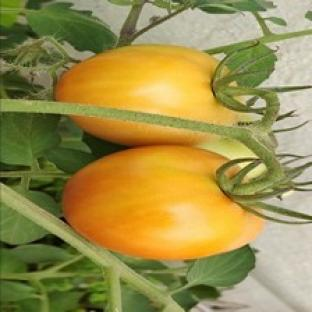Tomato: (63, 145, 263, 259), (55, 45, 239, 125), (198, 138, 257, 160)
